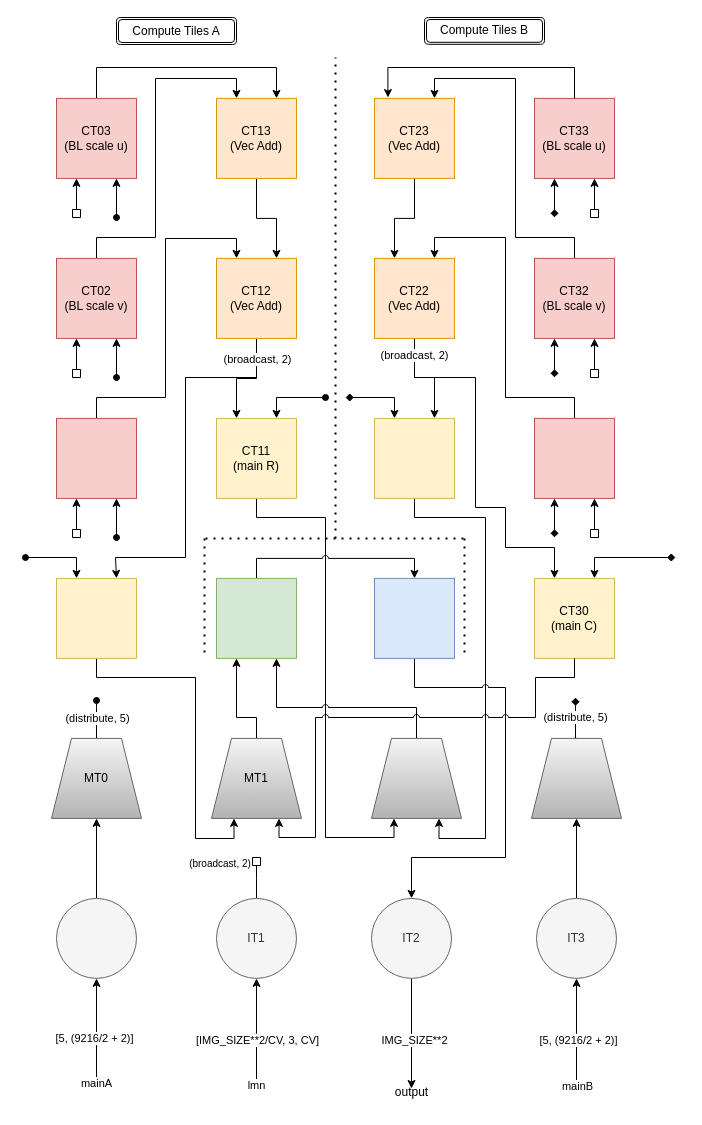
This 702x1125 diagram has some shape labels left out. The shapes that lost their labels are listed below. From the top down, each one's centre as x and y in pixels, then its label:
pixel 96 457: CT01 (BL scale w)
pixel 414 457: CT21 (main R)
pixel 574 457: CT31 ( BL scale w )
pixel 96 617: CT00 (main C)
pixel 256 617: CT10 (sub)
pixel 414 617: CT20 (mean)
pixel 416 777: MT2
pixel 576 777: MT3
pixel 96 937: IT0
